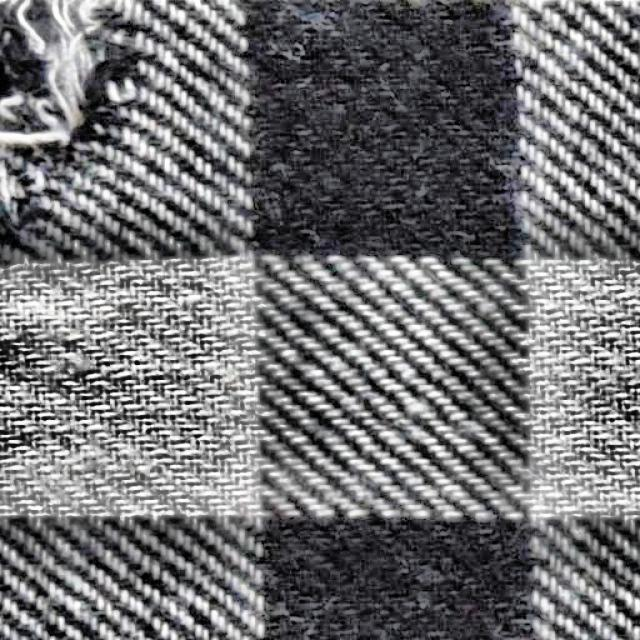cut: (1, 1, 175, 235)
